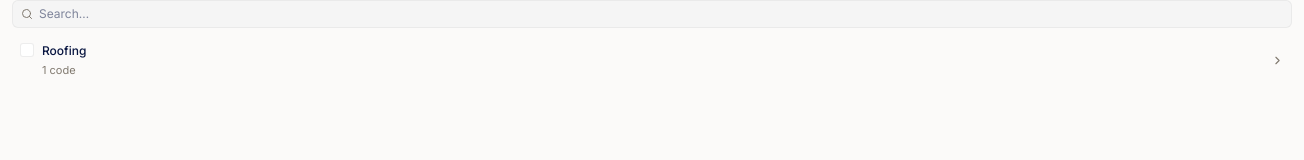
Scenario: OnboardingTreePicker lazy loadChildren › does not lazy-load a parent that already has children populated
Click the button named "Show details": coordinates (1277, 60) [1262, 36, 1292, 84]
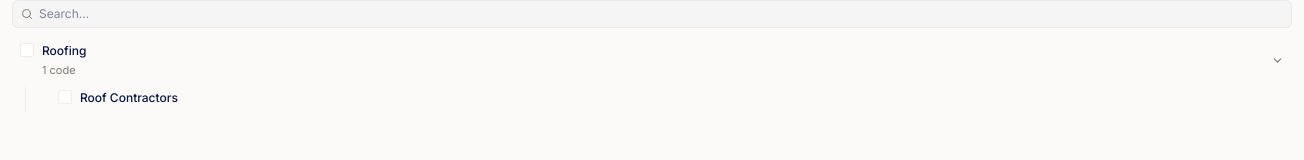
expect the text "Roof Contractors" is shown: met, box [80, 88, 178, 106]
